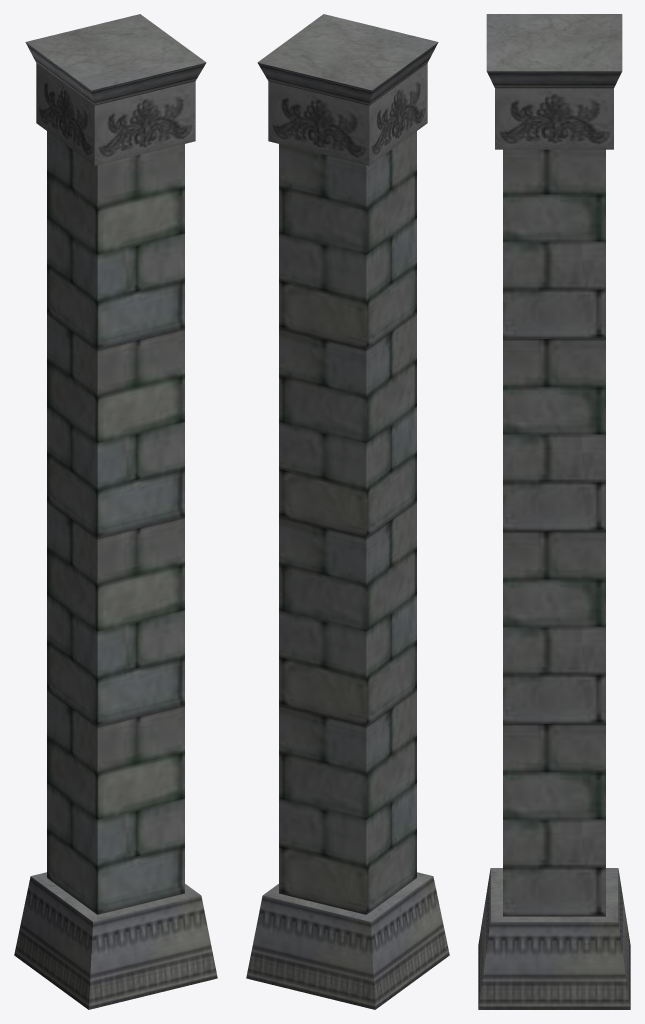
The model's file is sd_pillar_large_02.glb.
The picture shows the model from 3 angles, left to right: view 1: azimuth 30°, elevation 25°; view 2: azimuth 150°, elevation 25°; view 3: azimuth 270°, elevation 25°; orthographic projection. The views are drawn at different scales.
Parts seen in each view (by area): view 1: pillar_large_02; view 2: pillar_large_02; view 3: pillar_large_02.
Part boxes in pixels (bbox=[...]): pillar_large_02: bbox=[14, 14, 217, 1009]; pillar_large_02: bbox=[246, 14, 449, 1009]; pillar_large_02: bbox=[478, 14, 630, 1009].
Size of the model in its own units: 0.8863 by 6 by 0.8863.
1 material, 1 textured.
